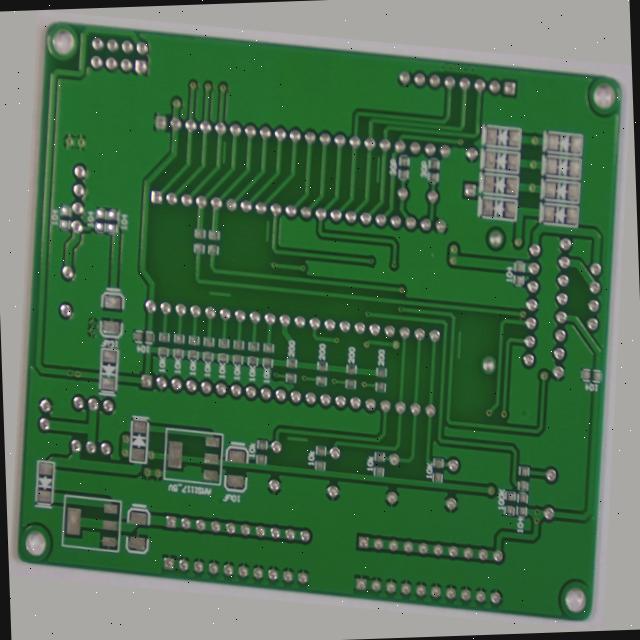spurious_copper: (195, 293, 224, 315), (247, 210, 261, 243), (292, 448, 320, 464), (361, 124, 374, 158), (195, 129, 209, 160), (465, 309, 476, 346)
